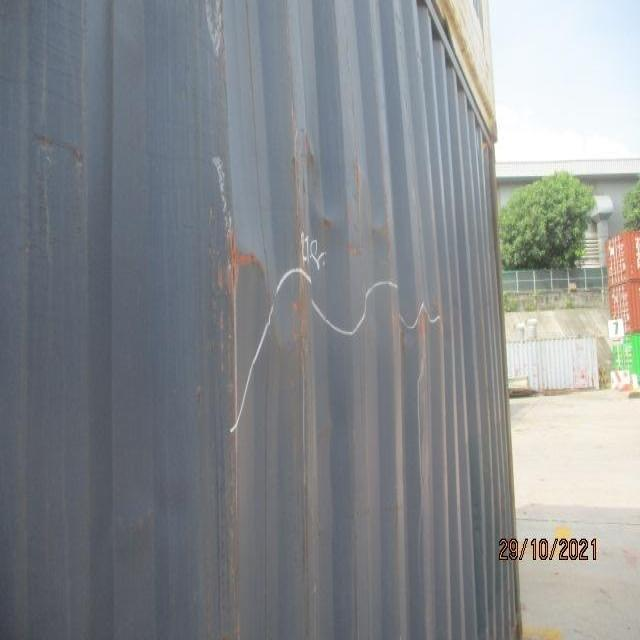dent: (188, 145, 474, 410)
